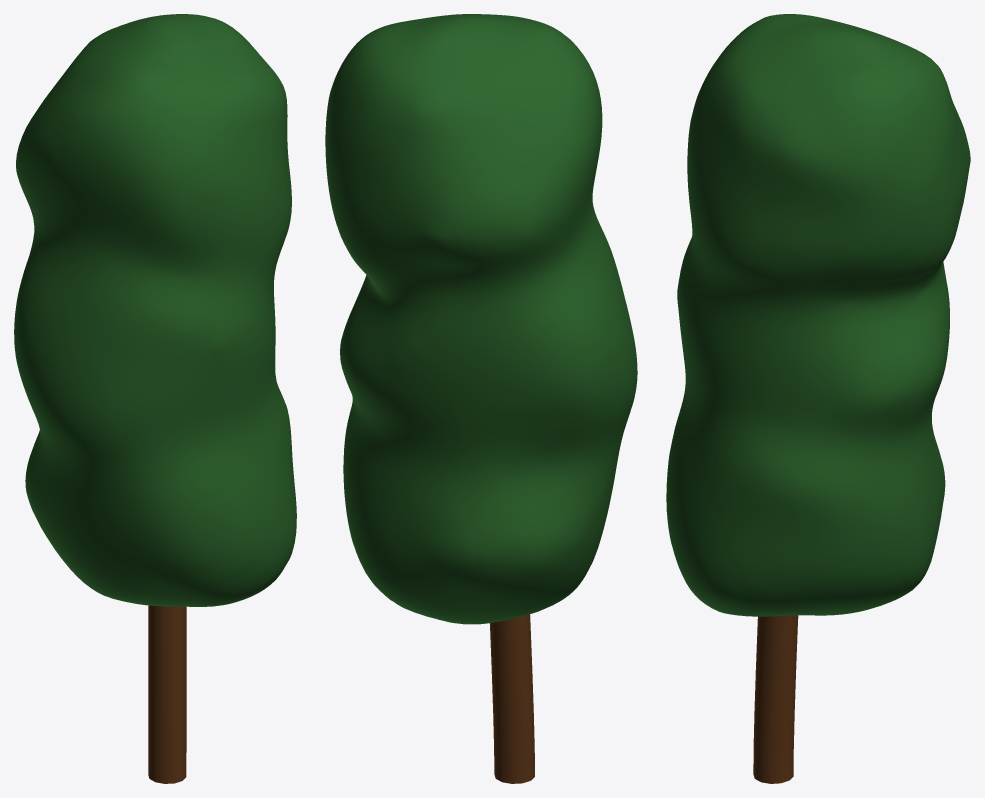
Rendered from trees_Tree_06.fbx.
3 renders of one model, left to right at view 1: azimuth 30°, elevation 25°; view 2: azimuth 150°, elevation 25°; view 3: azimuth 270°, elevation 25°, orthographic. The views are drawn at different scales.
Visible parts, largest first — view 1: Icosphere.009, BezierCurve.004; view 2: Icosphere.009, BezierCurve.004; view 3: Icosphere.009, BezierCurve.004.
Part boxes in pixels (<box>): Icosphere.009: <box>14,14,296,606</box>; BezierCurve.004: <box>148,605,186,783</box>; Icosphere.009: <box>325,14,637,624</box>; BezierCurve.004: <box>490,614,534,783</box>; Icosphere.009: <box>666,14,970,616</box>; BezierCurve.004: <box>753,615,798,783</box>.
Bounding box in the file's own units: 3.14 × 8.65 × 3.15.
